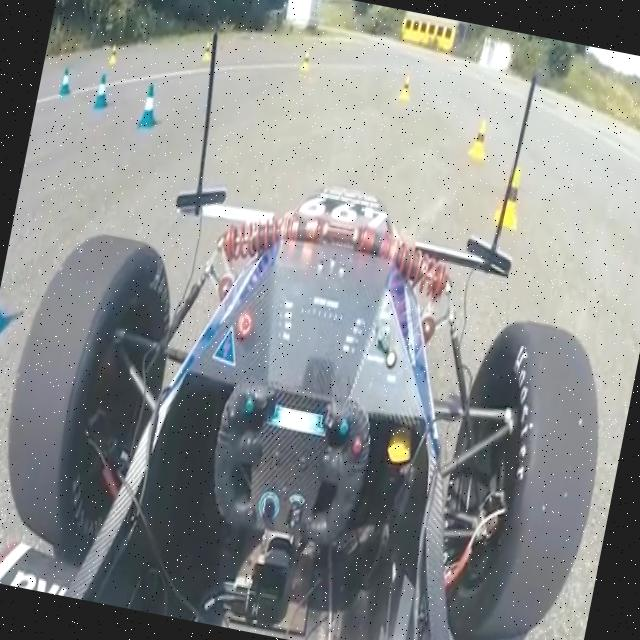blue_cone: (131, 78, 166, 136), (86, 68, 119, 116), (54, 56, 82, 100)
yellow_cone: (493, 158, 538, 232), (461, 112, 501, 172), (393, 66, 419, 103), (296, 46, 314, 76)
